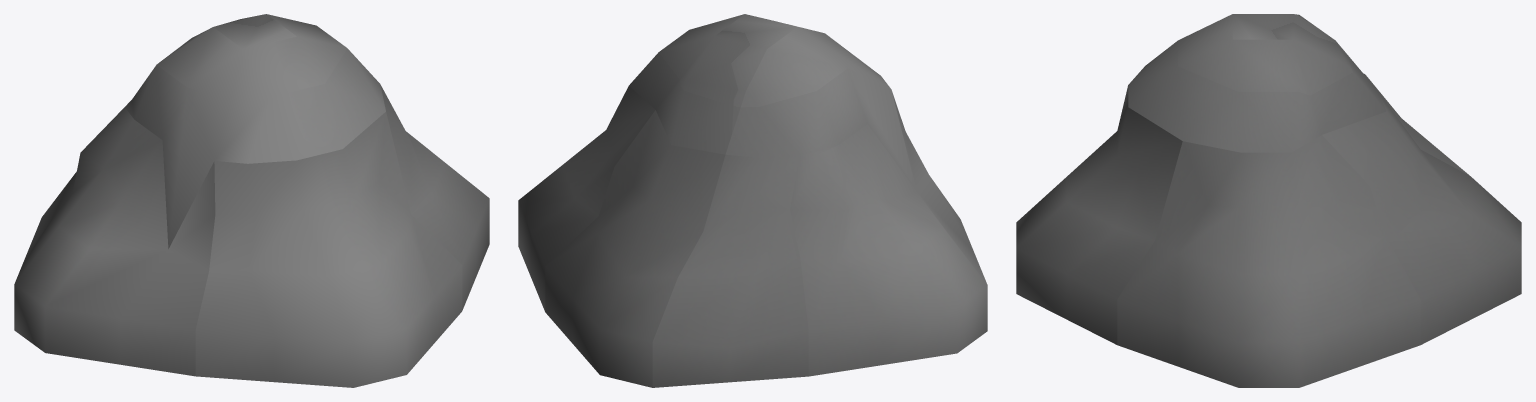
File: Rock2.fbx
3 renders of one model, left to right at view 1: azimuth 30°, elevation 25°; view 2: azimuth 150°, elevation 25°; view 3: azimuth 270°, elevation 25°, orthographic.
Visible parts, largest first — view 1: pCube1; view 2: pCube1; view 3: pCube1.
Part boxes in pixels (box(x1,y1,x2,y2)): pCube1: box(14, 14, 489, 387); pCube1: box(518, 14, 987, 387); pCube1: box(1016, 14, 1521, 387).
Size of the model in its own units: 10 by 5.55 by 10.
1 material, 1 textured.
